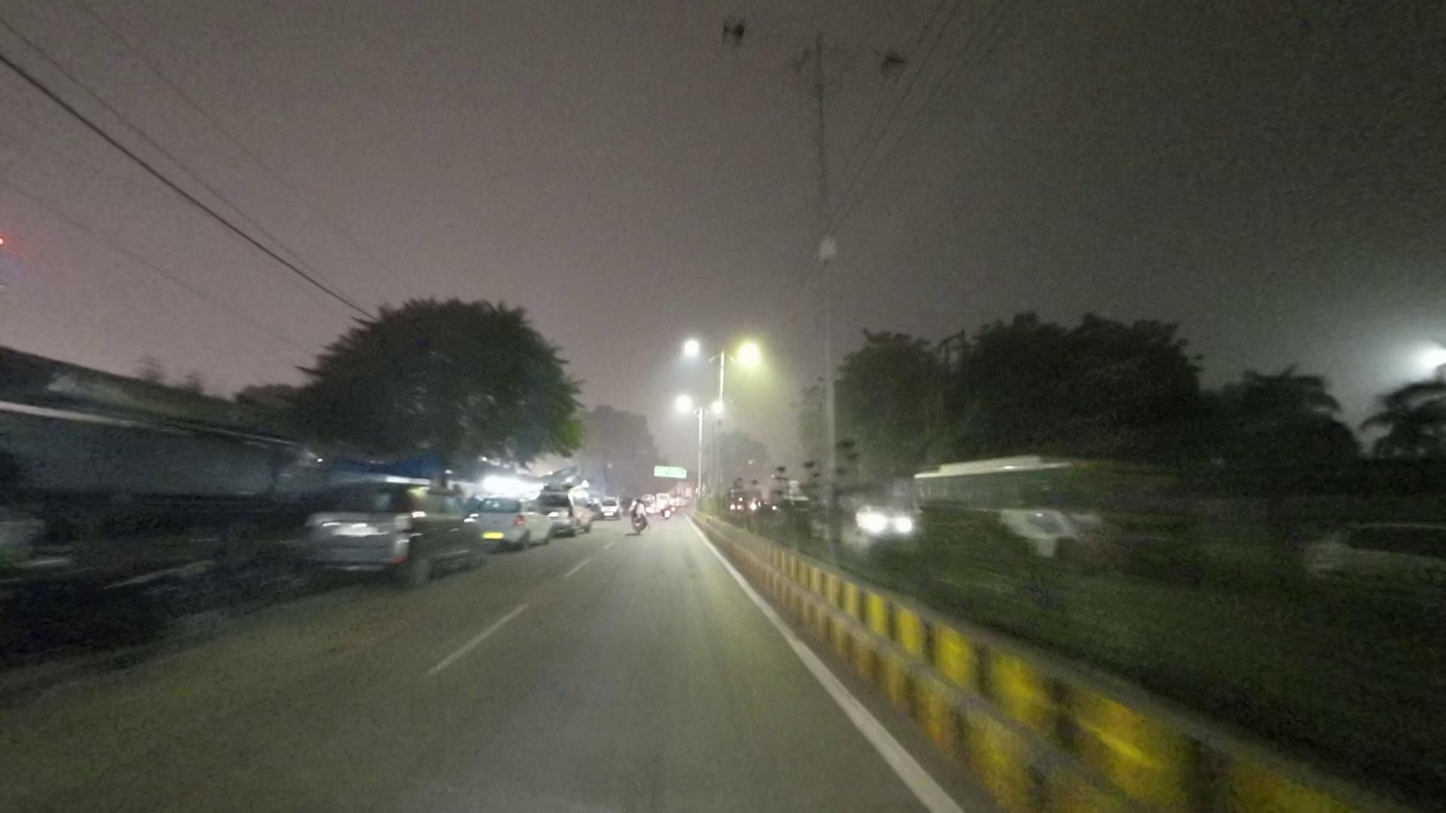streetlight: (722, 8, 810, 54), (824, 32, 911, 77)
